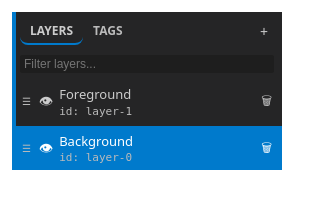
Test: LayersPanel › context menu › closes context menu after clicking "Merge Down"
The image size is (332, 215).
Right-click the element with test id "layer-row-layer-1": [95, 94] box [12, 79, 282, 124]
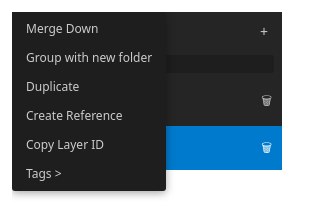
Click the button with test id "context-merge-down": [89, 28] box [14, 14, 164, 43]
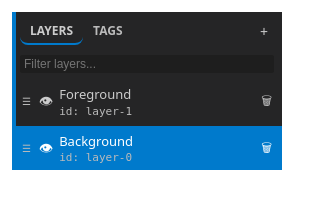
Now the element with test id "layer-context-menu" is gone
